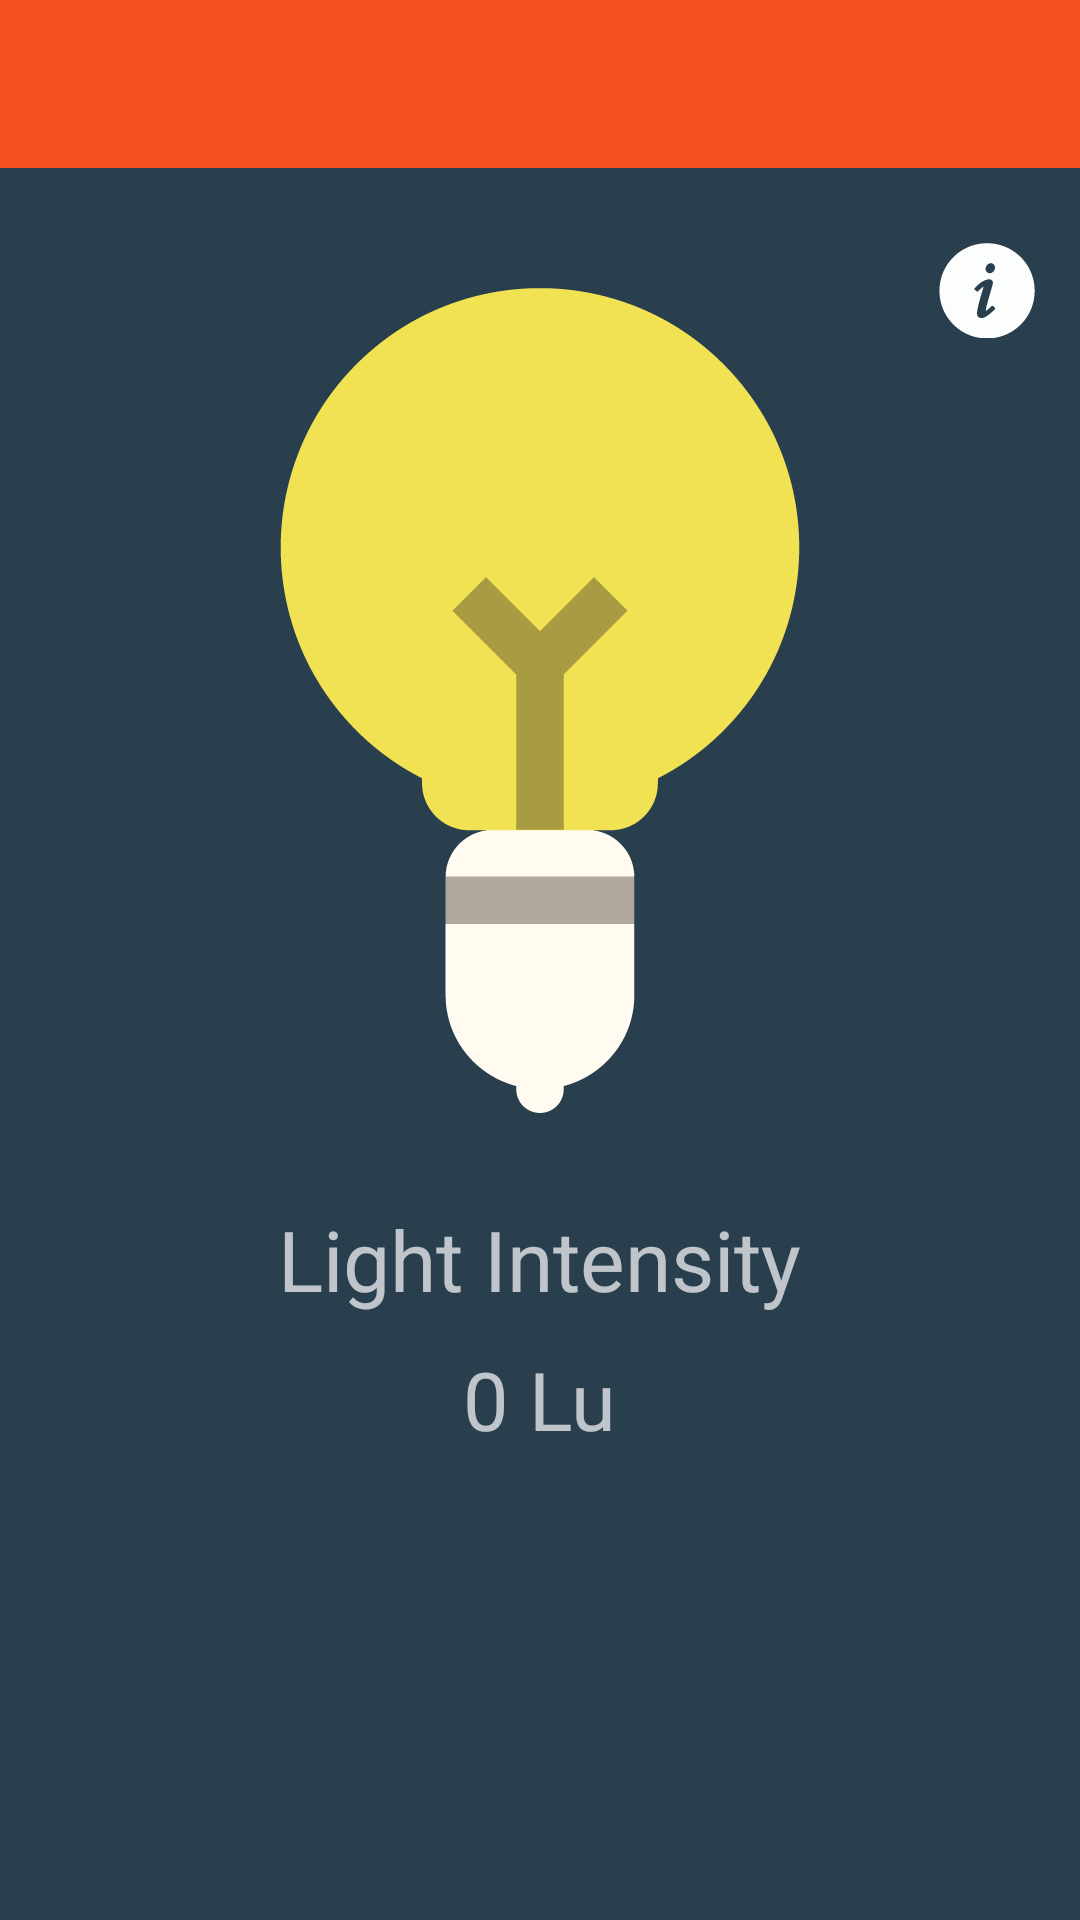

Named icons in this screenshot (1080px×1920px) and their bounding boxes, Rect(x1, y1, x2, y2):
info: Rect(939, 243, 1035, 338)
